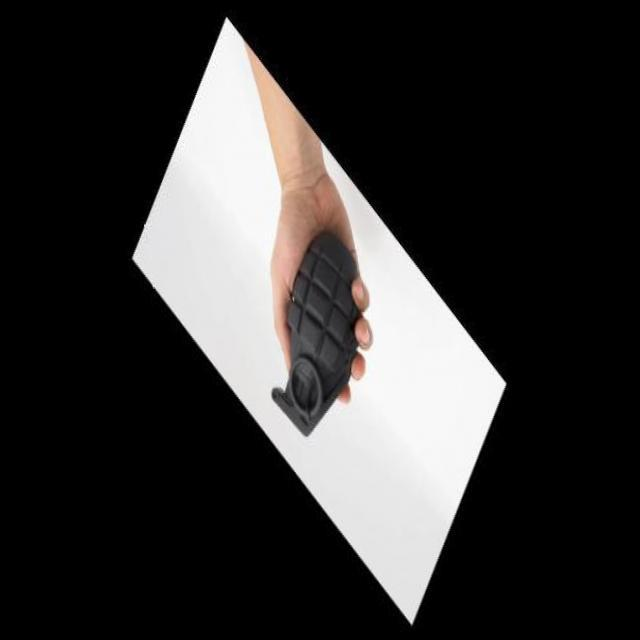grenade: (244, 231, 385, 444)
